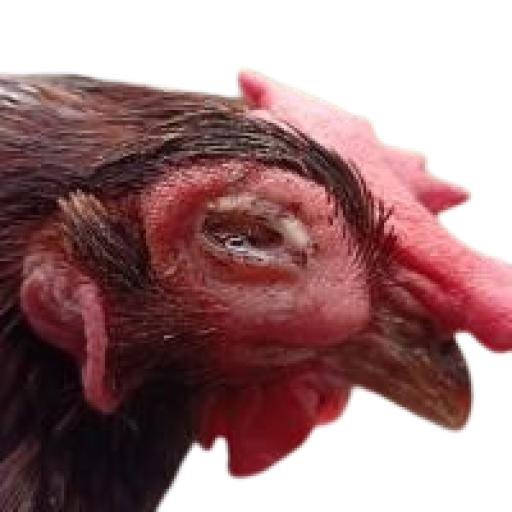disease: (160, 163, 345, 340)
